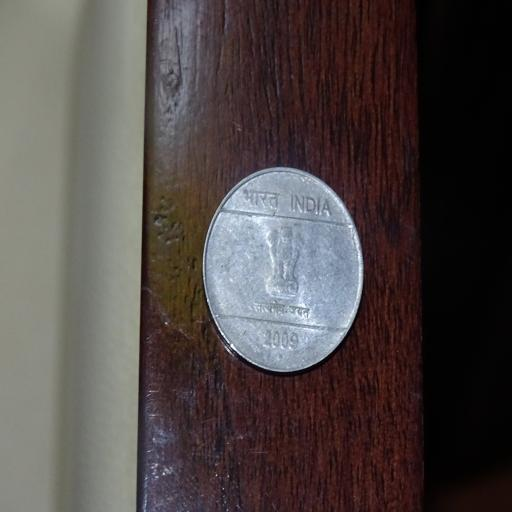rupee1: (201, 168, 364, 372)
